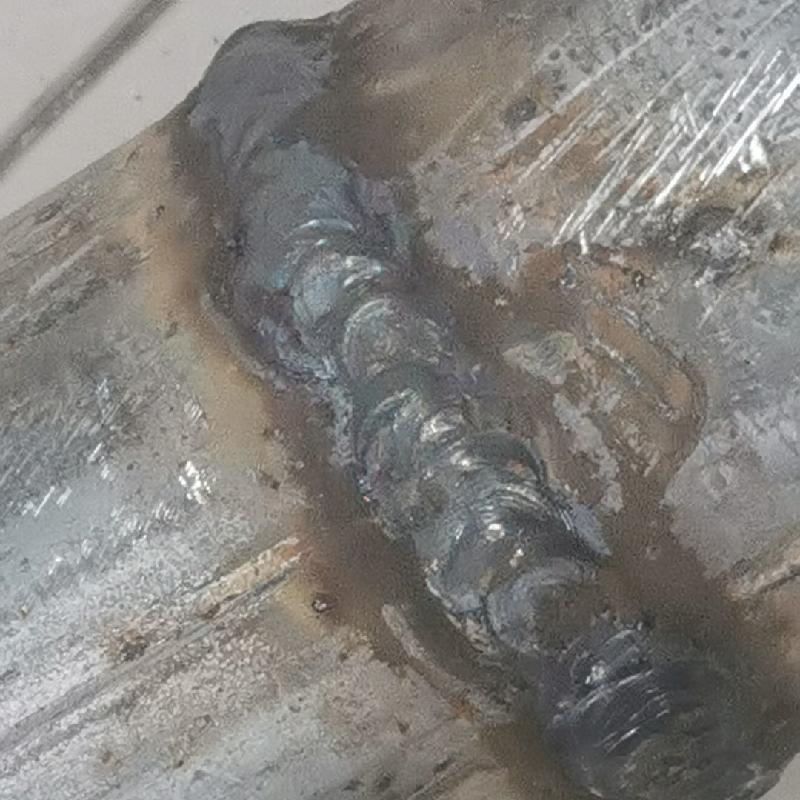good: (171, 24, 777, 796)
